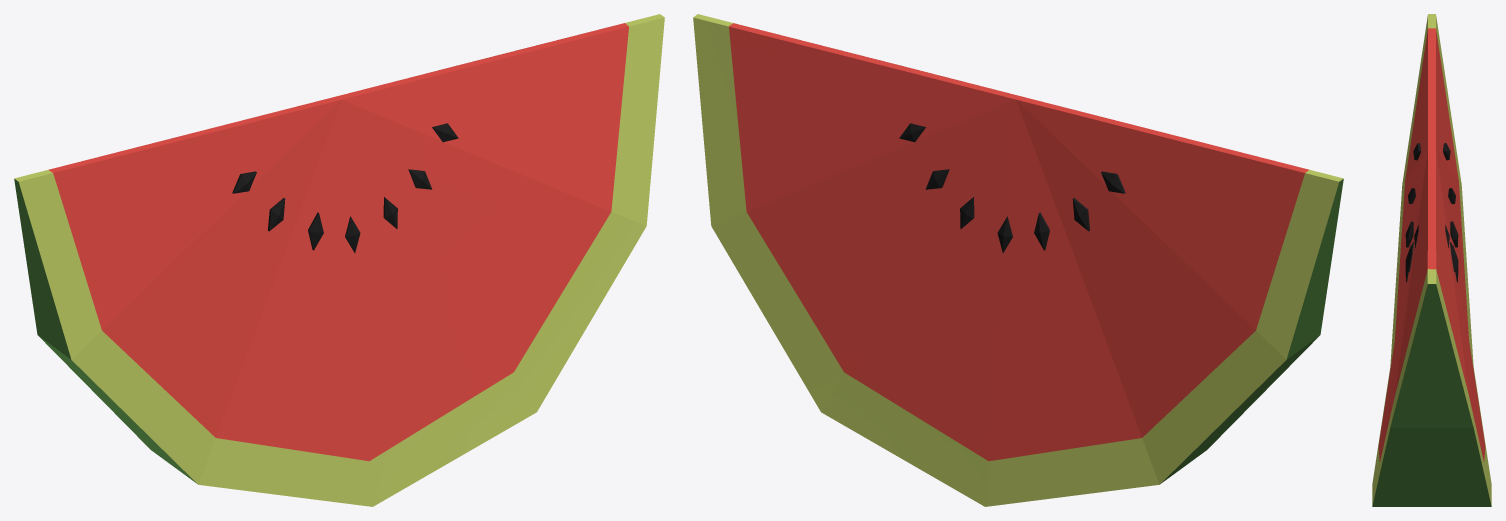
Rendered from Watermelon_02.fbx.
The picture shows the model from 3 angles, left to right: view 1: azimuth 30°, elevation 25°; view 2: azimuth 150°, elevation 25°; view 3: azimuth 270°, elevation 25°; orthographic projection. The views are drawn at different scales.
Parts seen in each view (by area): view 1: Watermelon_02; view 2: Watermelon_02; view 3: Watermelon_02.
Boxes of the visible parts, <box> form: Watermelon_02: <box>14,14,664,506</box>; Watermelon_02: <box>693,14,1343,506</box>; Watermelon_02: <box>1372,14,1491,506</box>.
Size of the model in its own units: 25.29 by 14.49 by 4.63.
